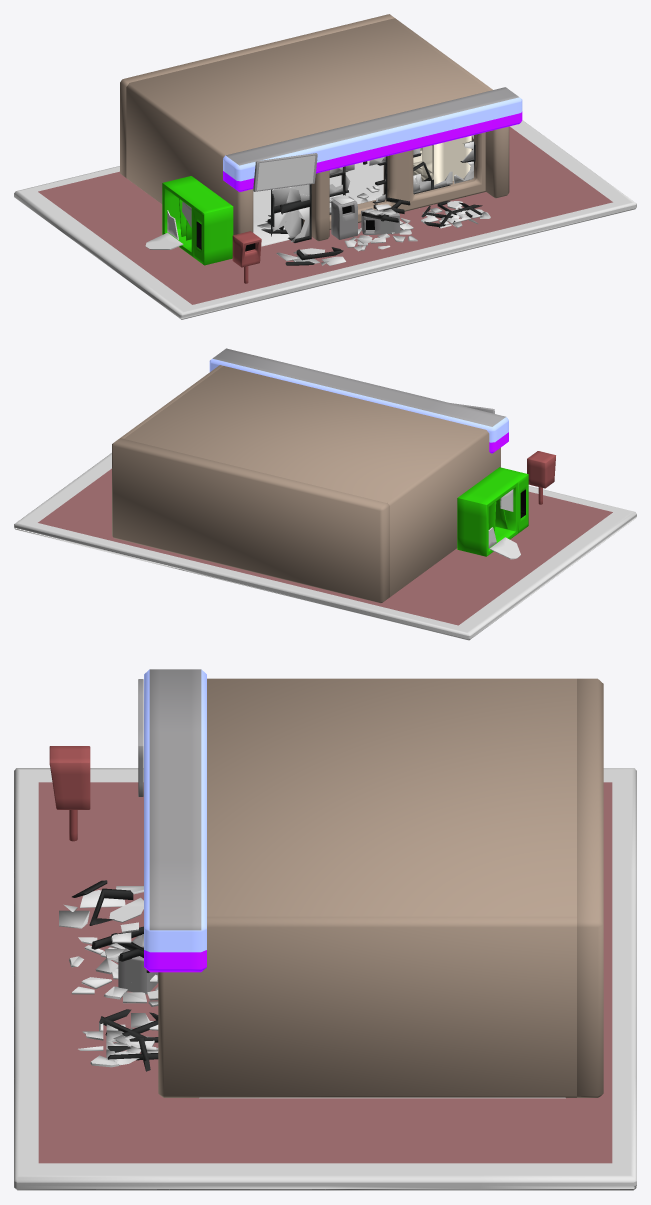
Rendered from Store_Inside_Rondv2.fbx.
3 views of the same model, one above another, from view 1: azimuth 30°, elevation 25°; view 2: azimuth 150°, elevation 25°; view 3: azimuth 270°, elevation 25° (orthographic). The views are drawn at different scales.
Parts seen in each view (by area): view 1: Left_Wall, Plane.001, Light_Purple_Blue, Cube.013, Frot_wall, Floor, Name_Sign, Cube.015, Front_Pilar, Cube.026_cell, Cube.033_cell, Cylinder (+9 smaller); view 2: Left_Wall, Plane.001, Light_Purple_Blue, Cube.013, Cylinder, Cube.014_cell; view 3: Left_Wall, Plane.001, Light_Purple_Blue, Cube.026_cell, Cylinder, Cube.037_cell.002, Cube.023_cell.004, Trash_can, Cube.022_cell.001, Floor.
Part boxes in pixels (<box>): Left_Wall: <box>120,14,509,235</box>; Plane.001: <box>14,120,636,319</box>; Light_Purple_Blue: <box>223,87,522,192</box>; Cube.013: <box>162,176,233,265</box>; Frot_wall: <box>303,132,485,229</box>; Floor: <box>253,160,383,246</box>; Name_Sign: <box>253,153,317,191</box>; Cube.015: <box>413,136,471,185</box>; Front_Pilar: <box>311,170,329,241</box>; Cube.026_cell: <box>421,201,490,228</box>; Cube.033_cell: <box>271,187,303,240</box>; Cylinder: <box>232,231,261,283</box>; Left_Wall: <box>112,365,500,603</box>; Plane.001: <box>14,453,636,640</box>; Light_Purple_Blue: <box>209,348,508,453</box>; Cube.013: <box>457,467,528,556</box>; Cylinder: <box>527,451,555,504</box>; Cube.014_cell: <box>488,489,520,559</box>; Left_Wall: <box>158,678,603,1097</box>; Plane.001: <box>14,768,636,1190</box>; Light_Purple_Blue: <box>144,669,206,972</box>; Cube.026_cell: <box>78,1009,158,1071</box>; Cylinder: <box>49,746,90,841</box>; Cube.037_cell.002: <box>59,880,143,928</box>; Cube.023_cell.004: <box>69,937,158,1006</box>; Trash_can: <box>118,935,158,994</box>; Cube.022_cell.001: <box>91,922,149,972</box>; Floor: <box>199,1097,565,1098</box>.
Bounding box in the file's own units: 1707 × 384 × 1087.
